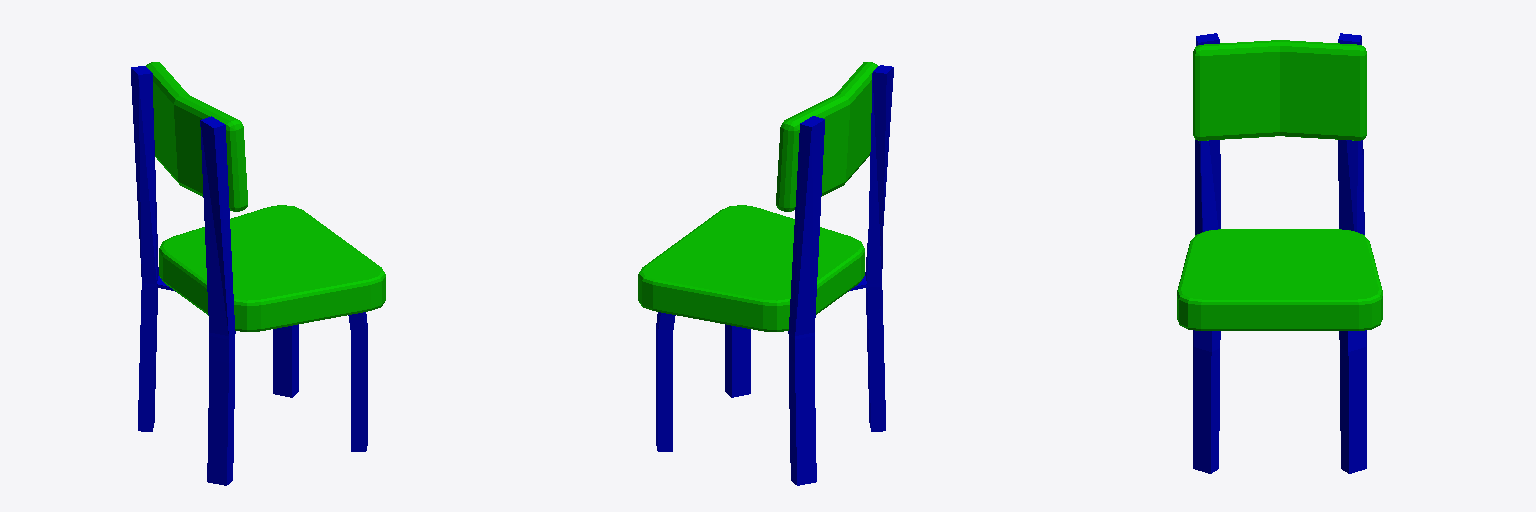
The model's file is ChairWood1.obj.
The picture shows the model from 3 angles: view 1: azimuth 30°, elevation 25°; view 2: azimuth 150°, elevation 25°; view 3: azimuth 270°, elevation 25°; orthographic projection.
Visible parts, largest first — view 1: Chair; view 2: Chair; view 3: Chair.
Boxes of the visible parts, x1=… form: Chair: x1=131, y1=62, x2=385, y2=485; Chair: x1=638, y1=62, x2=893, y2=485; Chair: x1=1177, y1=33, x2=1382, y2=473.
Size of the model in its own units: 0.7424 by 1.46 by 0.7606.